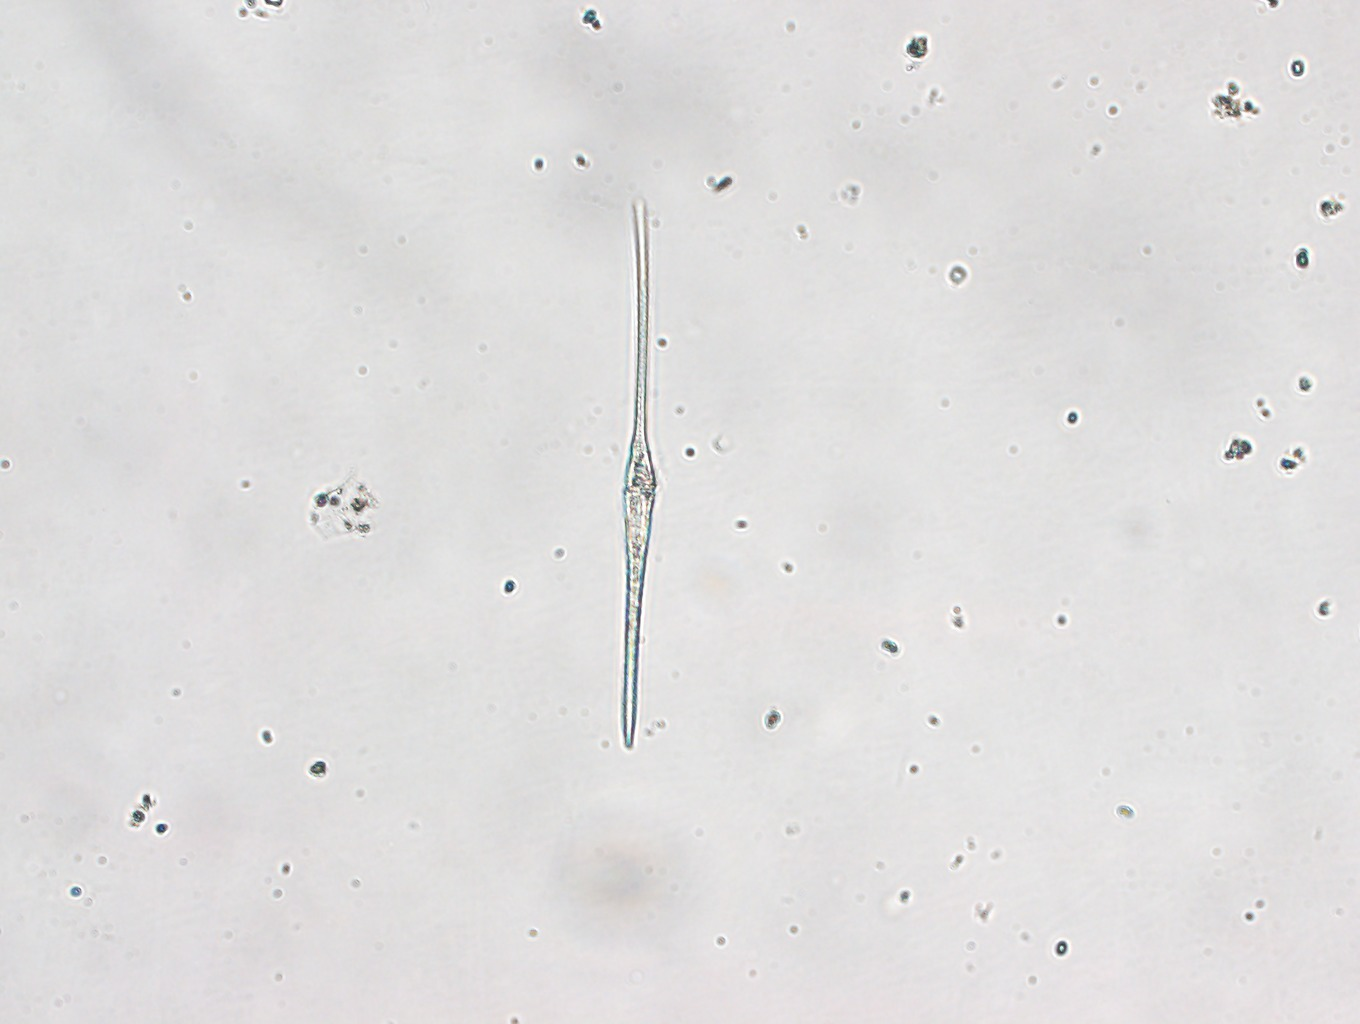ceratium fusus: (609, 186, 673, 749)
